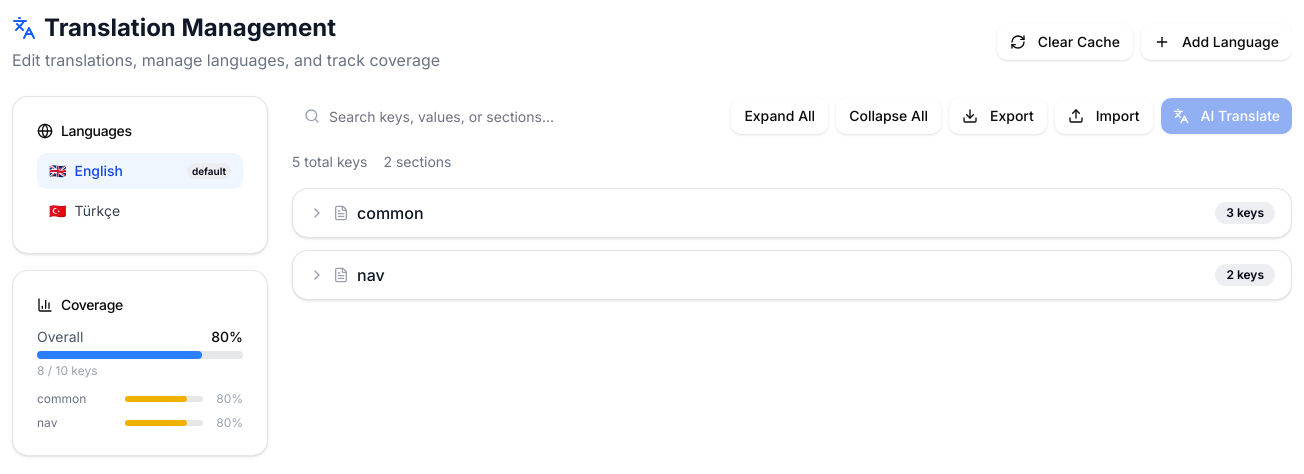
Test: TranslationsTab › should expand section to show keys
Expected: the text "3 keys" is shown, [1215, 202, 1275, 224]
What coordinates should you click on to do the following:
click the button "common 3 keys"
I would click on:
 (390, 213)
Its box is [293, 189, 1291, 237].
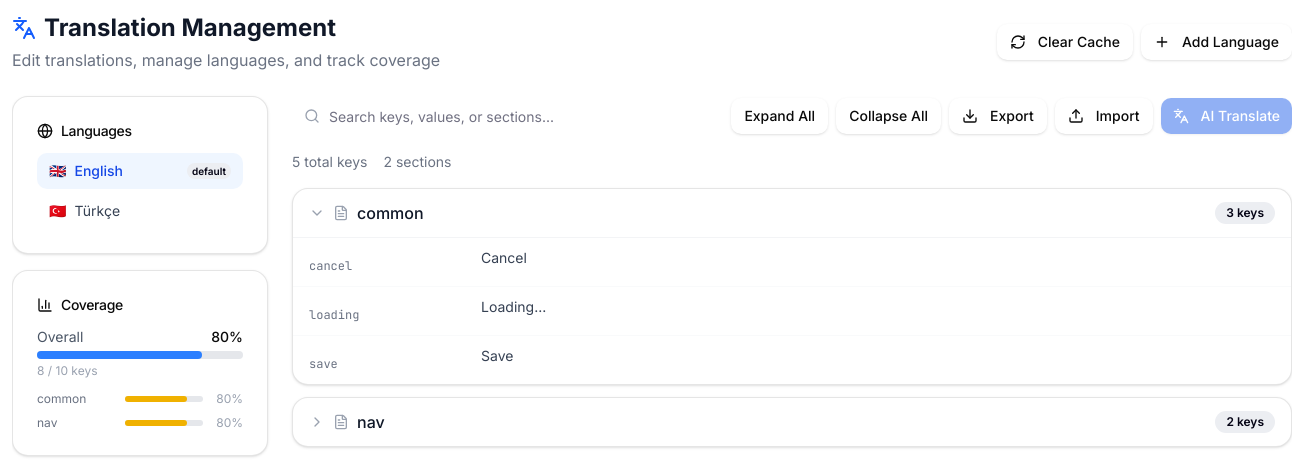
Result: the text "loading" is shown at [309, 307, 359, 323]
